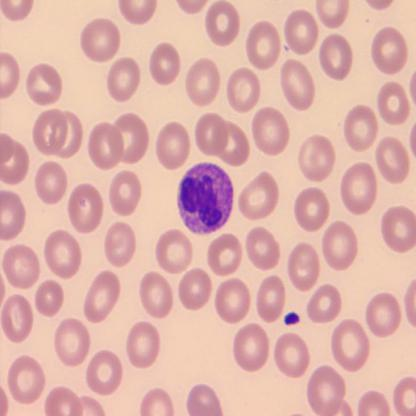Segmented neutrophil: (176, 160, 235, 234)
